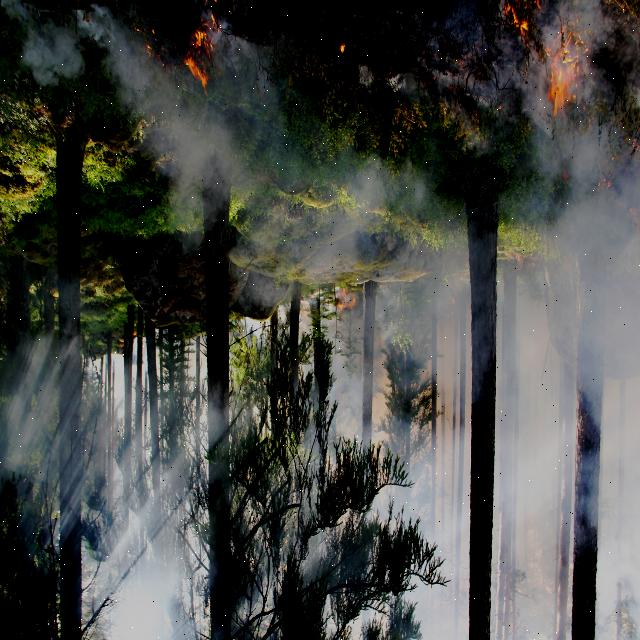api: (185, 24, 220, 93), (547, 45, 579, 111), (502, 1, 527, 48), (332, 39, 358, 69)
asap: (527, 122, 637, 530), (270, 107, 470, 294), (1, 338, 123, 574), (124, 365, 218, 640), (137, 101, 339, 217), (414, 3, 516, 111), (20, 1, 140, 89), (581, 1, 640, 97), (124, 34, 176, 124), (225, 31, 293, 97), (601, 530, 640, 628)
